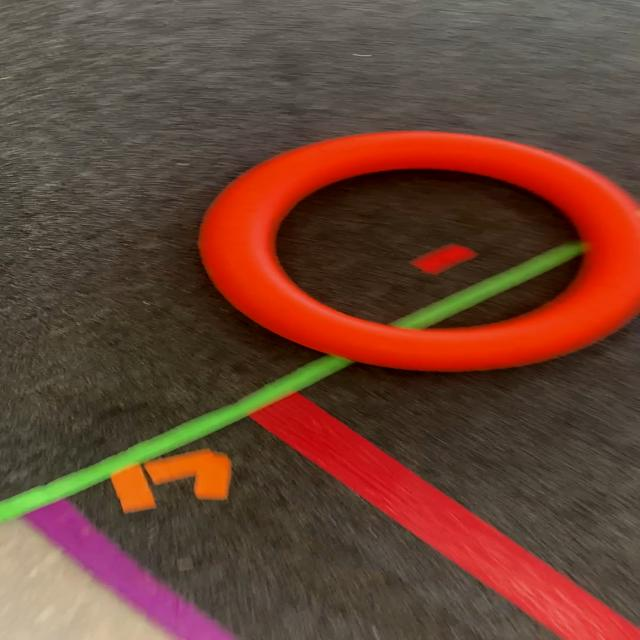notes: (190, 130, 640, 372)
